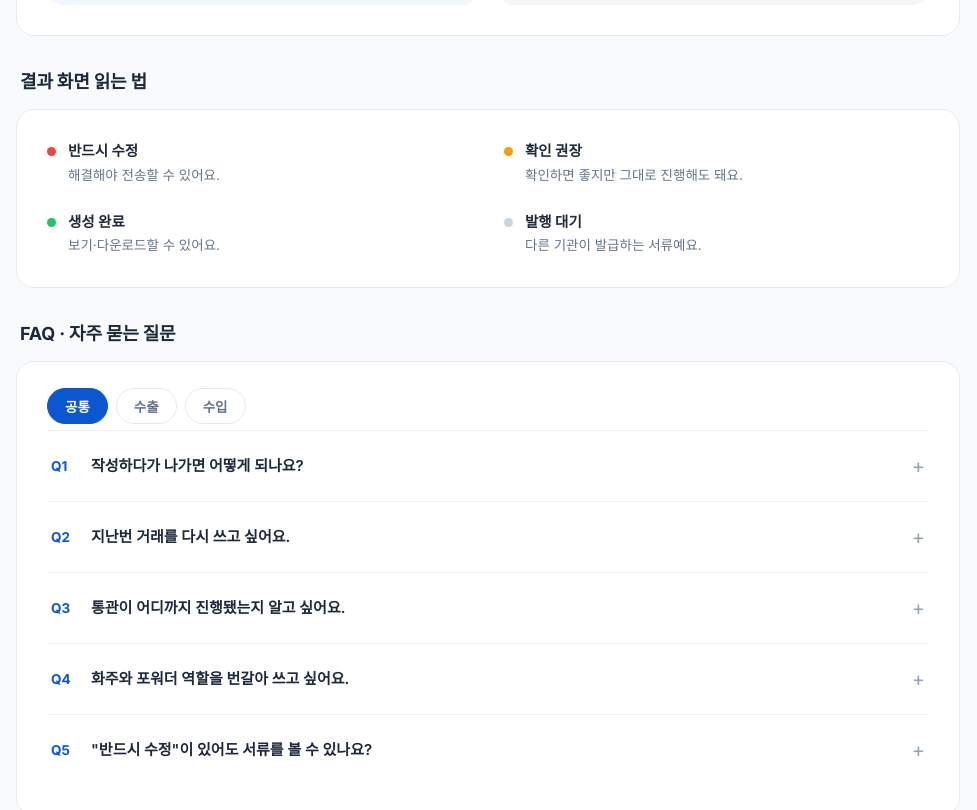
Test: GuidePanel 수출/수입 탭 › FAQ는 공통·수출·수입 탭으로 나뉘고, 고른 묶음의 질문만 보인다
The width and height of the screenshot is (977, 810).
(page scrolled)
Expected: the text "해외 서류에 적힌 HS CODE를 그대로 쓰면 되나요?" is not shown
Click the tab with class "gs-faq-tab" showing "수입": (215, 406) [185,388,246,424]
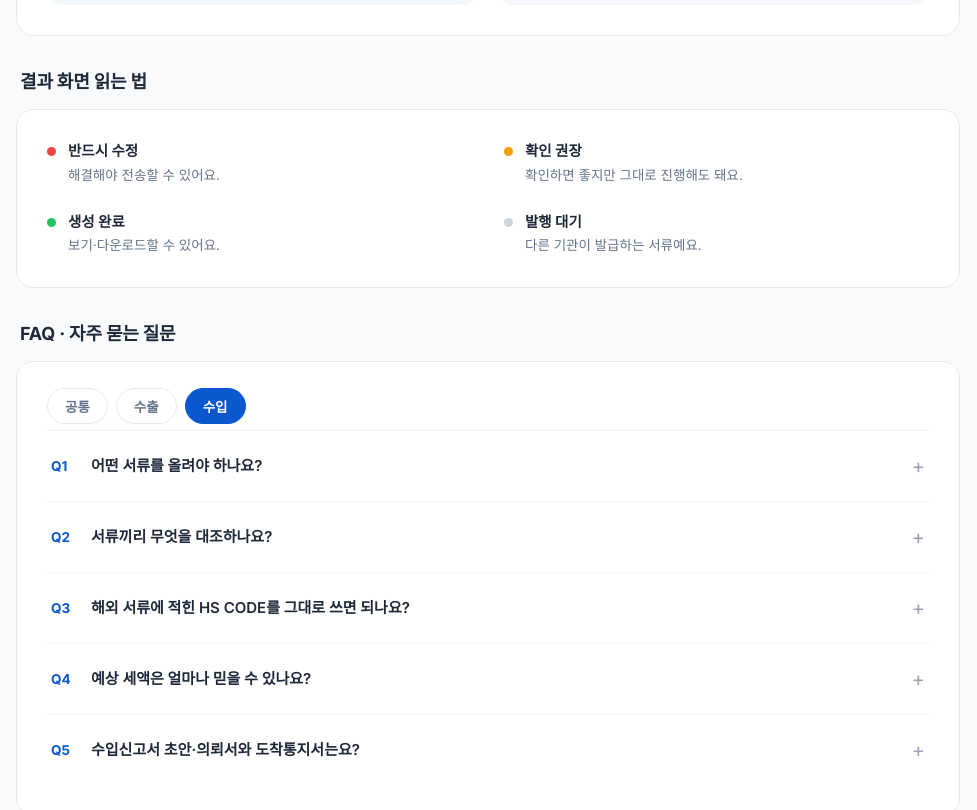
Expected: the text "해외 서류에 적힌 HS CODE를 그대로 쓰면 되나요?" is shown, [91,598,410,617]
Expected: the text "작성하다가 나가면 어떻게 되나요?" is gone
